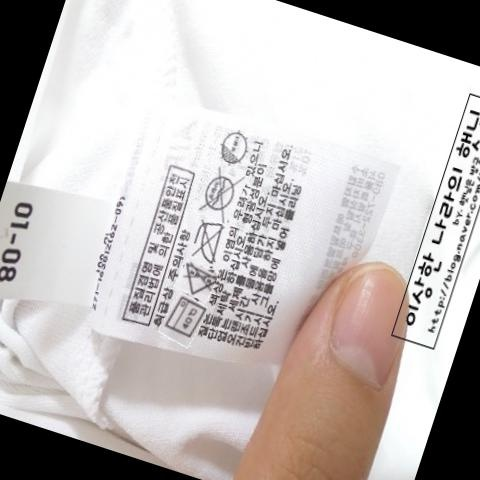40C: (164, 297, 212, 339)
DN_dry_clean: (198, 170, 244, 216)
DN_iron: (191, 220, 229, 264)
line_dry_in_shade: (217, 127, 256, 165)
non_chlorine_bleach: (181, 263, 221, 295)
